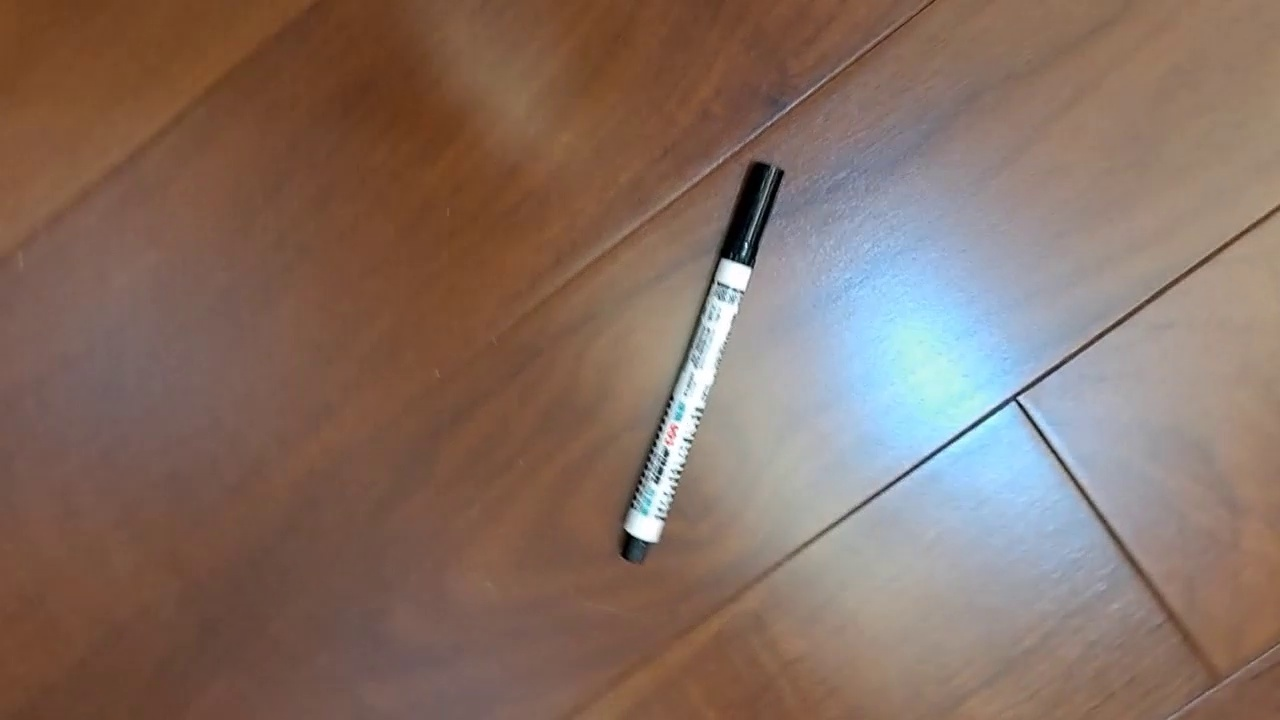pen: (617, 159, 785, 567)
